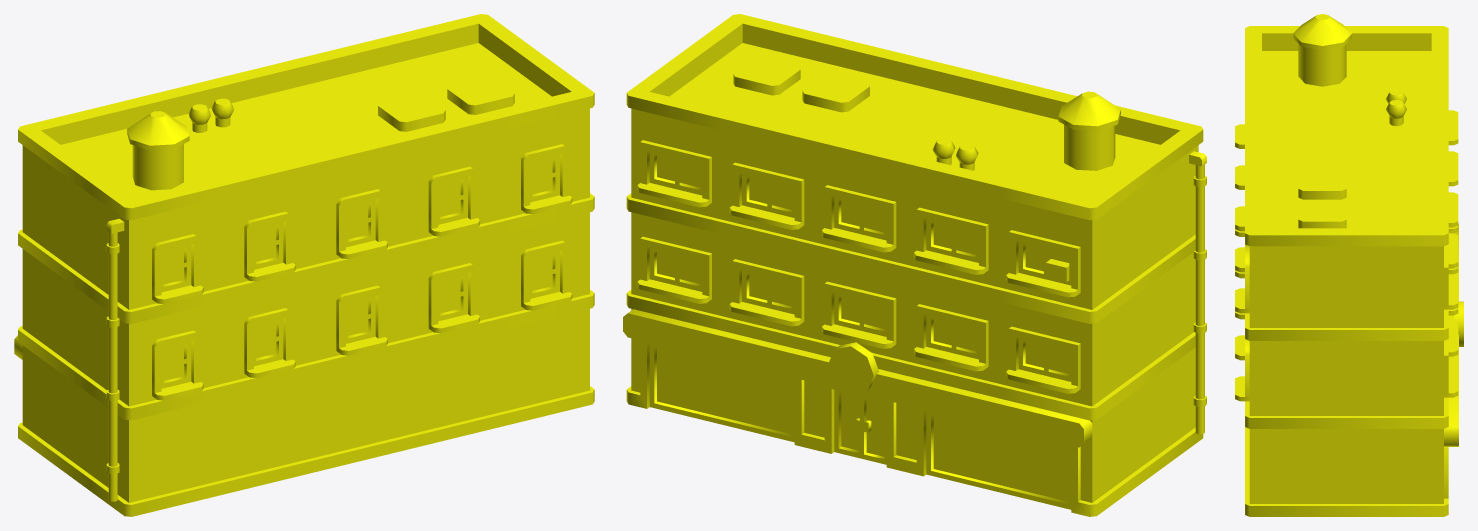
The model's file is entertainment-2.glb.
The picture shows the model from 3 angles, left to right: view 1: azimuth 30°, elevation 25°; view 2: azimuth 150°, elevation 25°; view 3: azimuth 270°, elevation 25°; orthographic projection. The views are drawn at different scales.
Parts seen in each view (by area): view 1: building-k; view 2: building-k; view 3: building-k.
Boxes of the visible parts, x1,y1,x2,y2 form: building-k: (14, 14, 594, 516); building-k: (623, 14, 1206, 516); building-k: (1235, 14, 1463, 516).
Size of the model in its own units: 2.08 by 1.47 by 0.942.
1 material, 1 textured.
